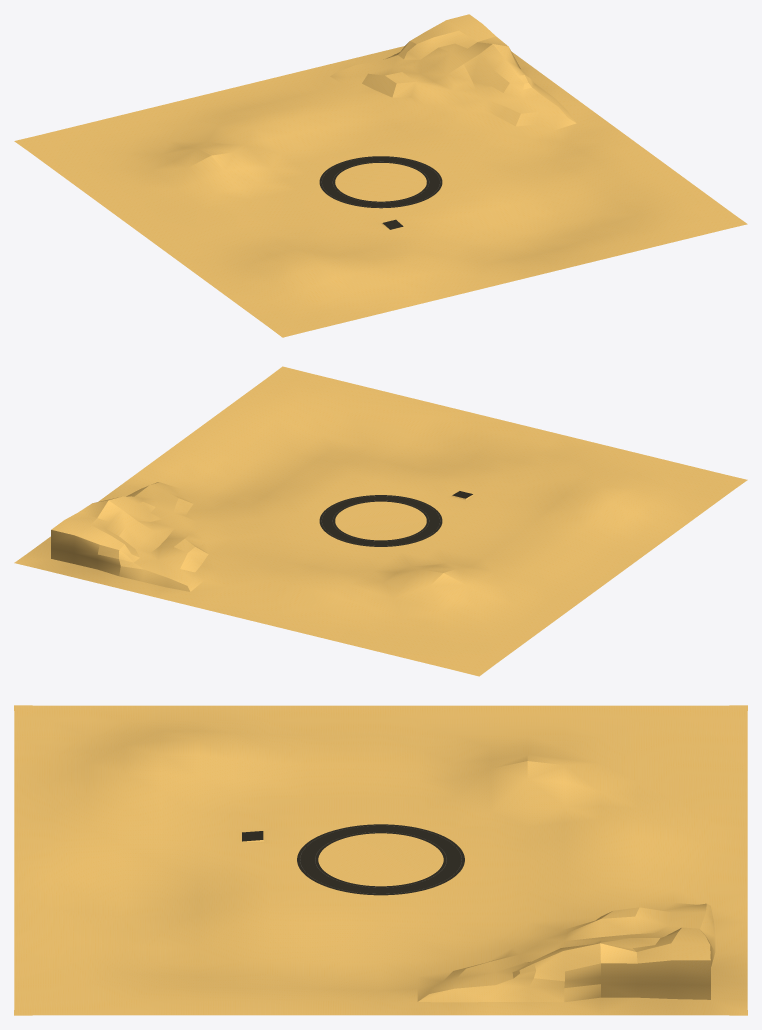
File: Ground.glb
3 renders of one model, top to bottom at view 1: azimuth 30°, elevation 25°; view 2: azimuth 150°, elevation 25°; view 3: azimuth 270°, elevation 25°, orthographic. The views are drawn at different scales.
Visible parts, largest first — view 1: ground-col; view 2: ground-col; view 3: ground-col.
Boxes of the visible parts, <box> form: ground-col: <box>14,14,747,337</box>; ground-col: <box>14,366,747,676</box>; ground-col: <box>14,705,747,1015</box>.
Bounding box in the file's own units: 501 × 41.87 × 501.
3 materials, 3 textured.
